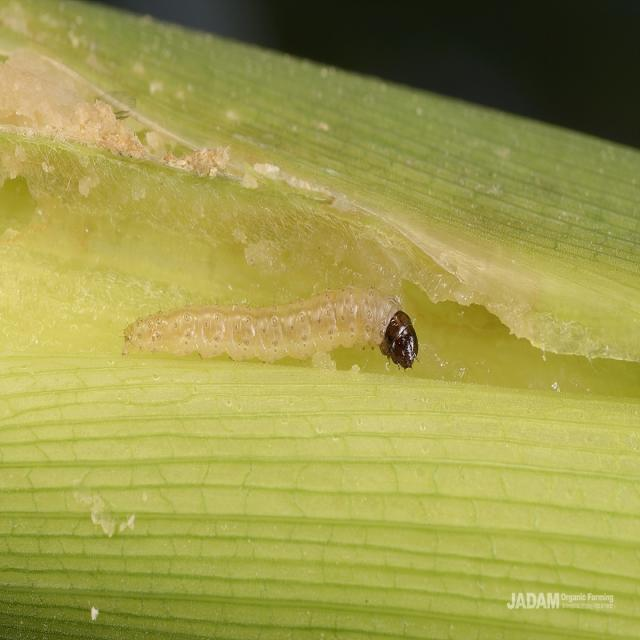cornborer-Larva-: (118, 283, 424, 377)
